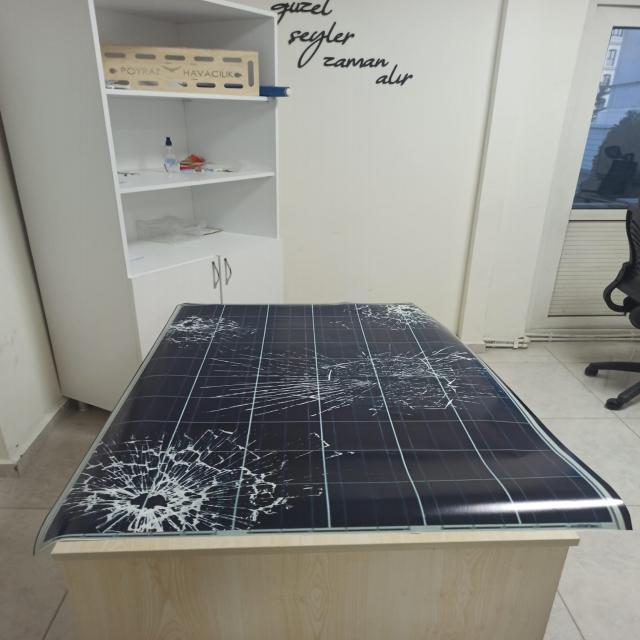faulty: (38, 298, 633, 560)
